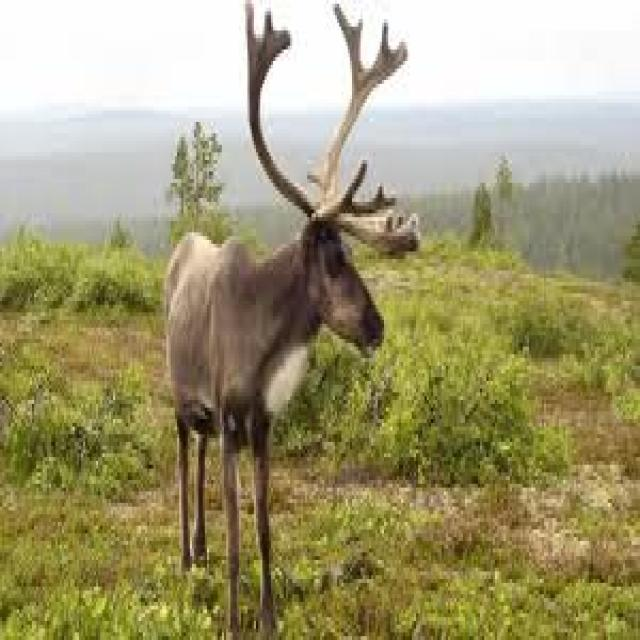Reindeer: (146, 0, 414, 640)
